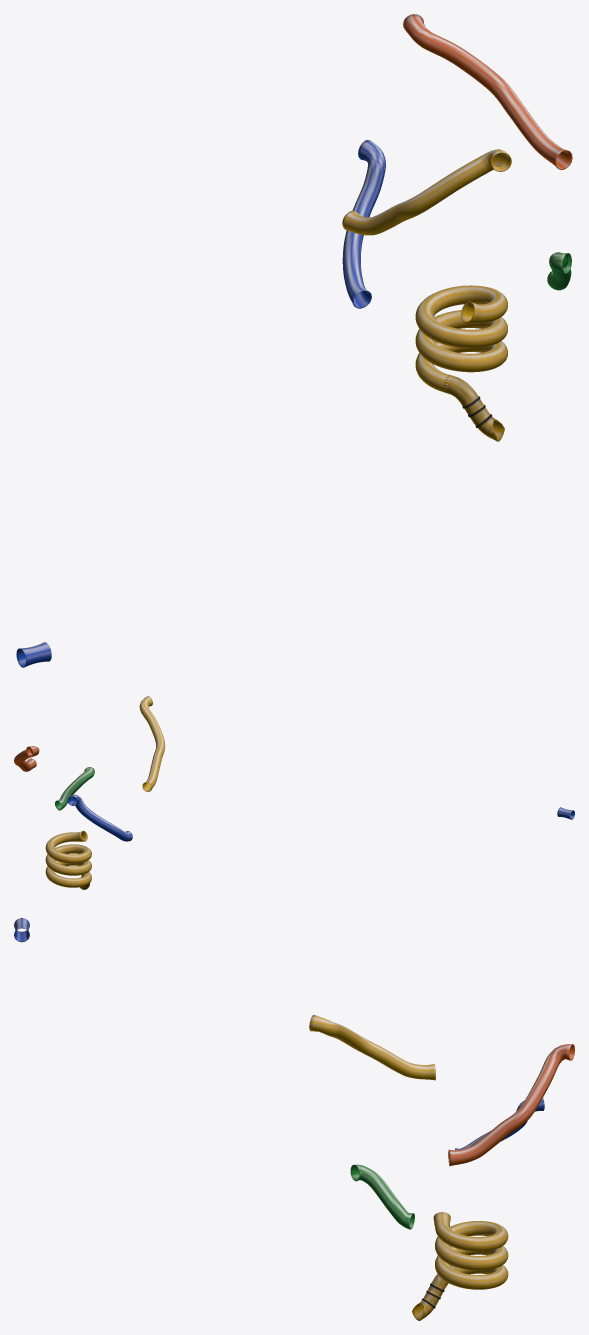
Rendered from Level6ArenaSlides.glb.
3 renders of one model, top to bottom at view 1: azimuth 30°, elevation 25°; view 2: azimuth 150°, elevation 25°; view 3: azimuth 270°, elevation 25°, orthographic. The views are drawn at different scales.
Visible parts, largest first — view 1: arena_exit, arena_orange, arena_yellow, arena_blue, arena_exit_end; view 2: arena_exit, arena_yellow, arena_blue, arena_green, arena_orange; view 3: arena_exit, arena_orange, arena_yellow, arena_green, arena_exit_end.
Boxes of the visible parts, x1,y1,x2,y2 form: arena_exit: [415, 285, 507, 393]; arena_orange: [403, 14, 572, 169]; arena_yellow: [342, 149, 511, 235]; arena_blue: [342, 140, 385, 308]; arena_exit_end: [443, 375, 504, 441]; arena_exit: [45, 830, 91, 887]; arena_yellow: [139, 696, 165, 791]; arena_blue: [67, 794, 132, 841]; arena_green: [55, 767, 94, 810]; arena_orange: [14, 746, 39, 771]; arena_exit: [433, 1212, 508, 1289]; arena_orange: [448, 1044, 574, 1166]; arena_yellow: [309, 1014, 435, 1080]; arena_green: [350, 1164, 414, 1229]; arena_exit_end: [412, 1265, 457, 1320].
Size of the model in its own units: 358 by 147 by 267.
